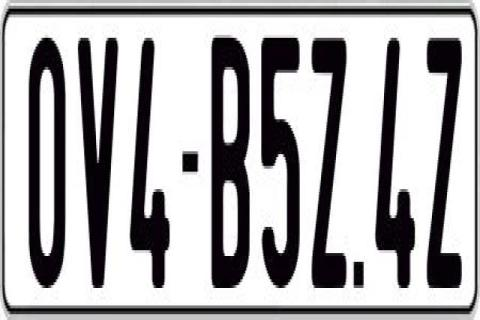0: (260, 32, 306, 300), (129, 38, 173, 306), (374, 29, 418, 297), (28, 32, 68, 288)
B: (208, 35, 252, 299)
V: (78, 29, 124, 288)
Z: (308, 35, 349, 285), (426, 29, 464, 279)
